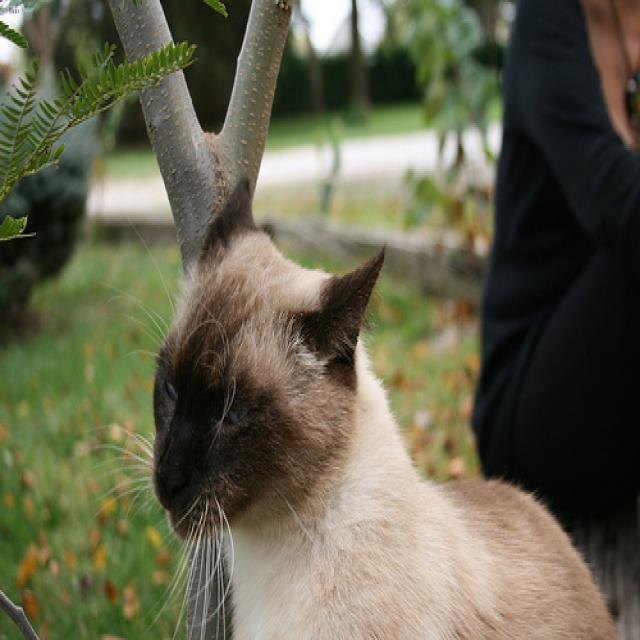Siamese: (147, 175, 392, 551)
